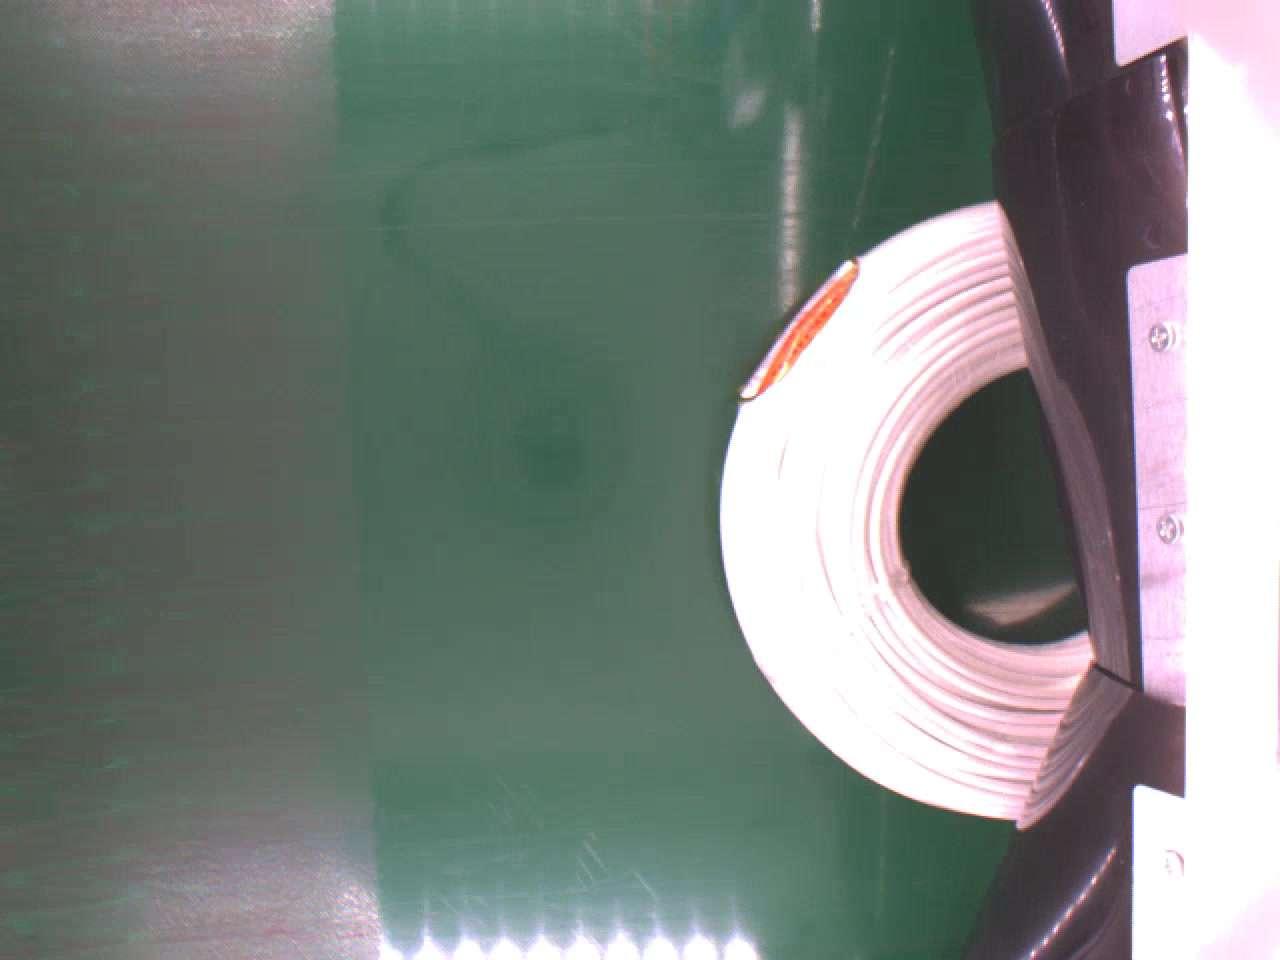white: (711, 202, 1097, 823)
